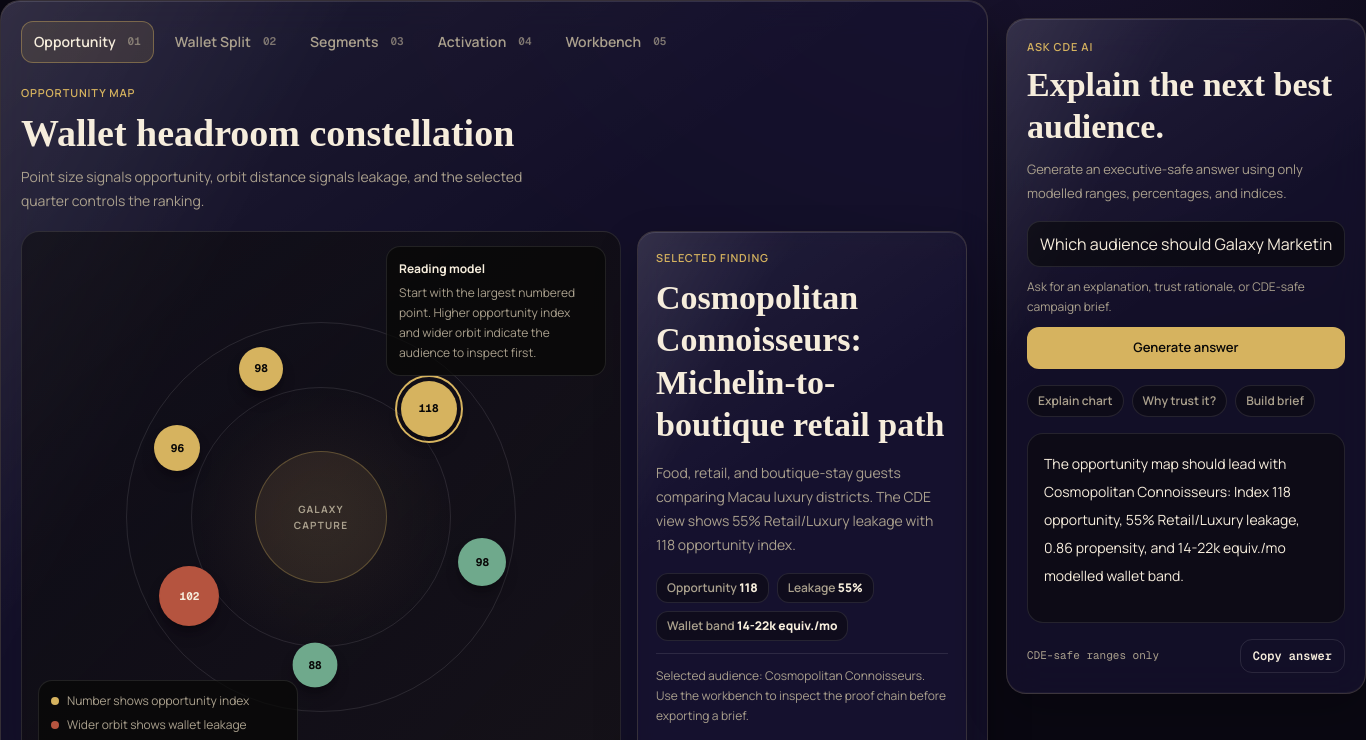
DecisionWorkspace › renders the labelled workspace, accessible tabs, and tab panels without a nested main
The width and height of the screenshot is (1366, 740).
Check: the tab "Opportunity 01" is shown, box [21,21,154,63]
Check: the tab "Wallet Split 02" is shown, box [162,21,289,63]
Click the tab "Workbench 05".
click(616, 42)  # box [552,21,679,63]
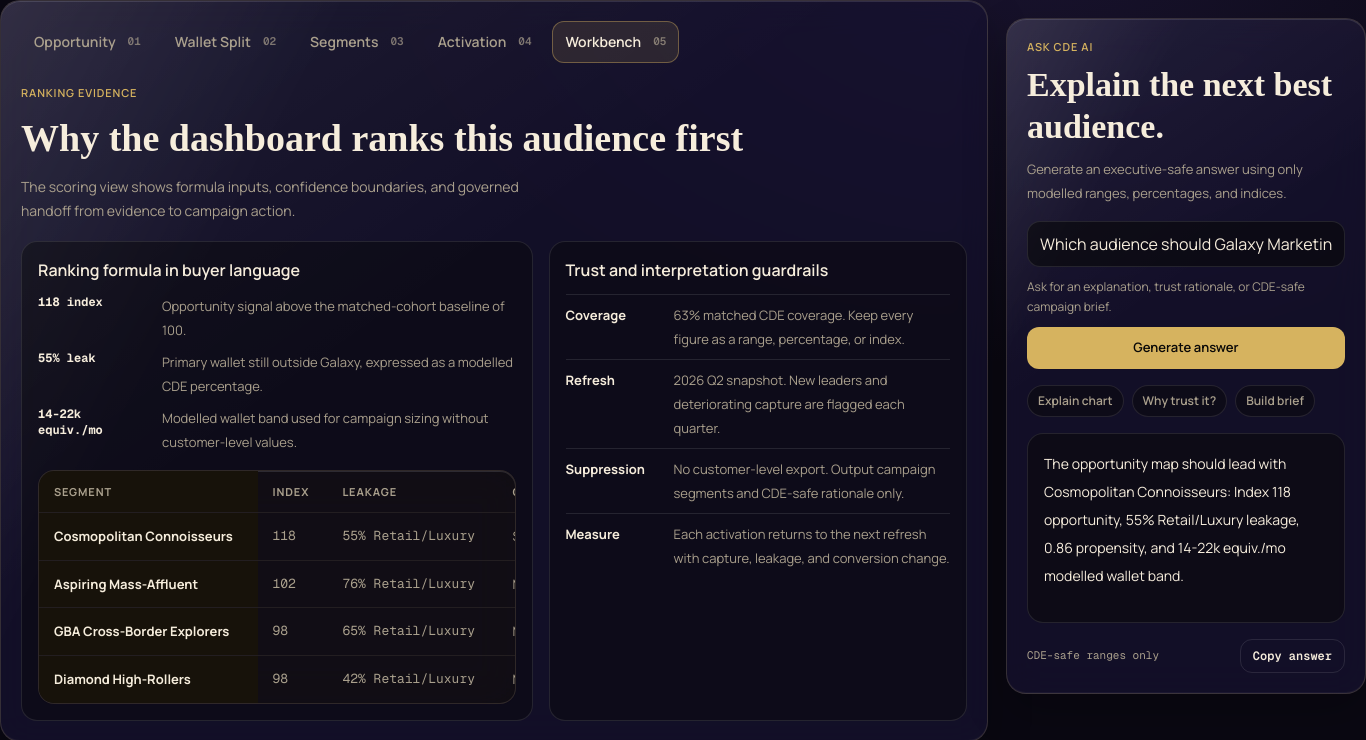
Check: the panel named "Workbench" is shown, box [21,85,967,721]
